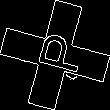P_W: (26, 30, 84, 80)
